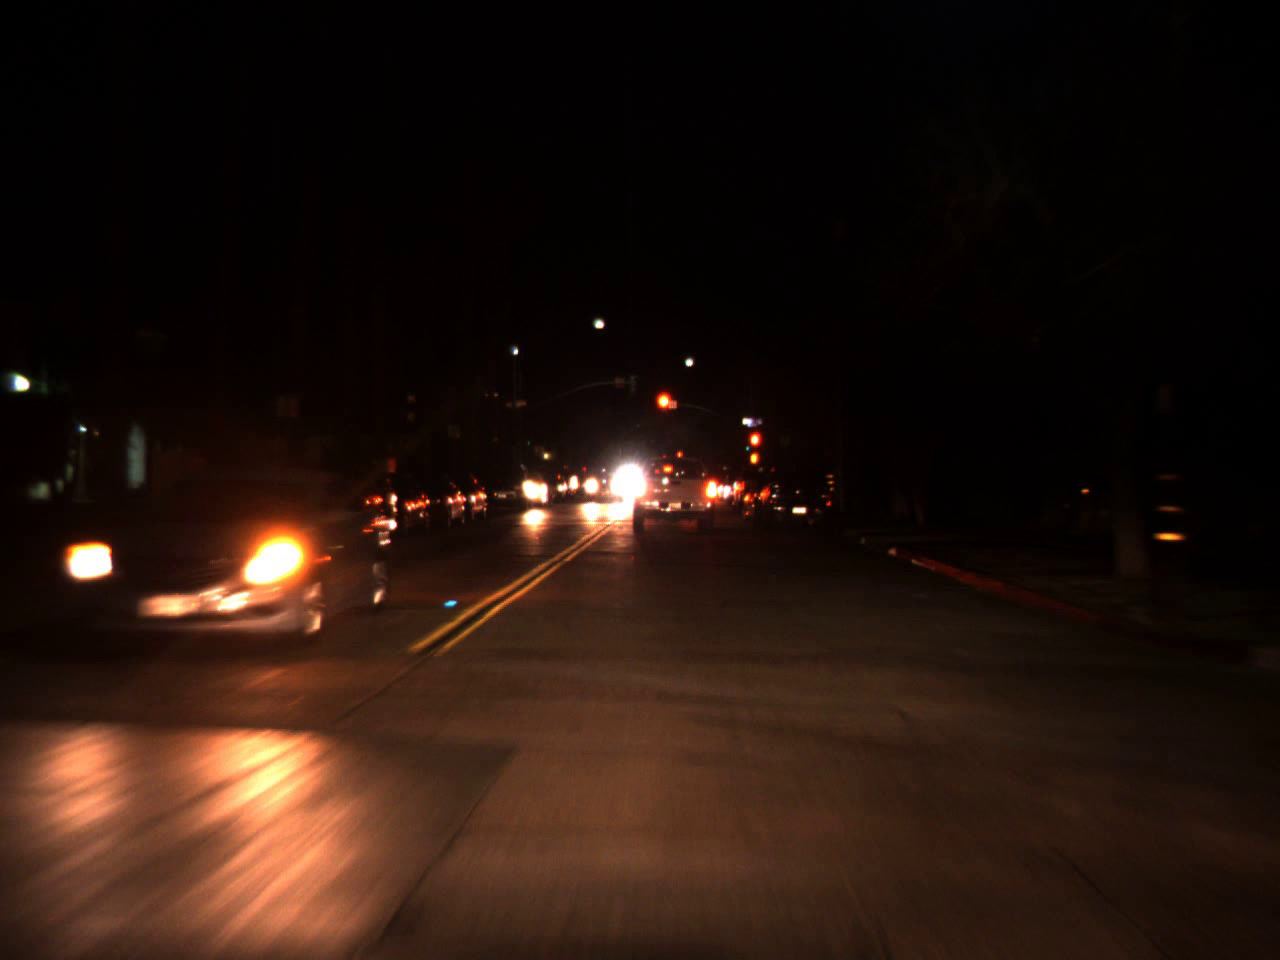stop: (652, 389, 680, 429), (747, 429, 762, 464)
